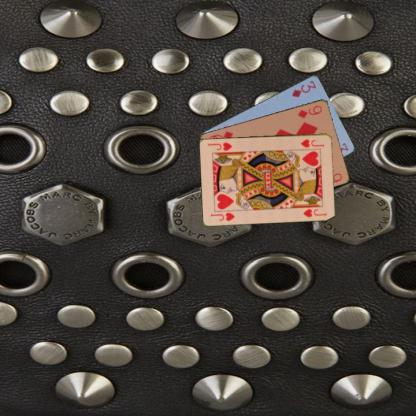3d: (290, 78, 317, 98)
9d: (295, 103, 324, 119)
Jh: (208, 210, 236, 222), (298, 136, 325, 148)
